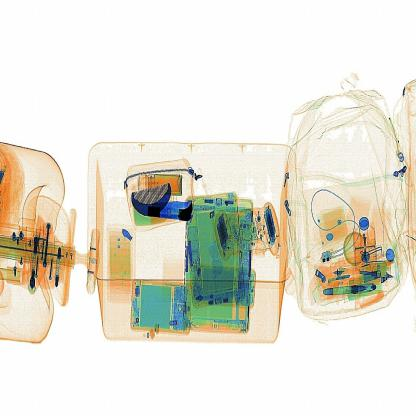knife: (146, 199, 198, 228)
